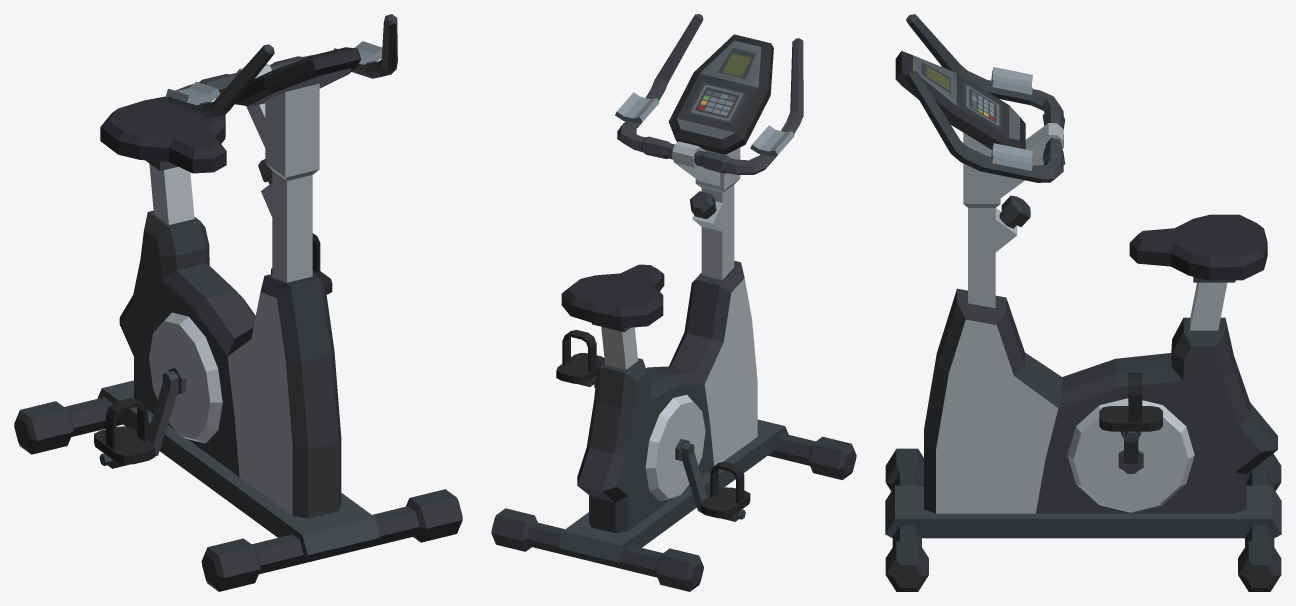
Rendered from Spin_Bike.fbx.
3 renders of one model, left to right at view 1: azimuth 30°, elevation 25°; view 2: azimuth 150°, elevation 25°; view 3: azimuth 270°, elevation 25°, orthographic. The views are drawn at different scales.
Parts seen in each view (by area): view 1: Spin_Bike; view 2: Spin_Bike; view 3: Spin_Bike.
Boxes of the visible parts, box(x1,y1,x2,y2) form: Spin_Bike: box(14, 14, 462, 591); Spin_Bike: box(491, 14, 856, 591); Spin_Bike: box(885, 14, 1281, 591).
Bounding box in the file's own units: 78.16 × 160 × 117.
Materials: 1 (1 with a texture image).
